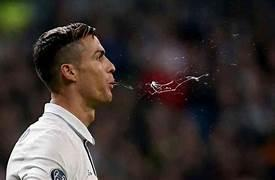Spitting: (28, 19, 167, 109)
